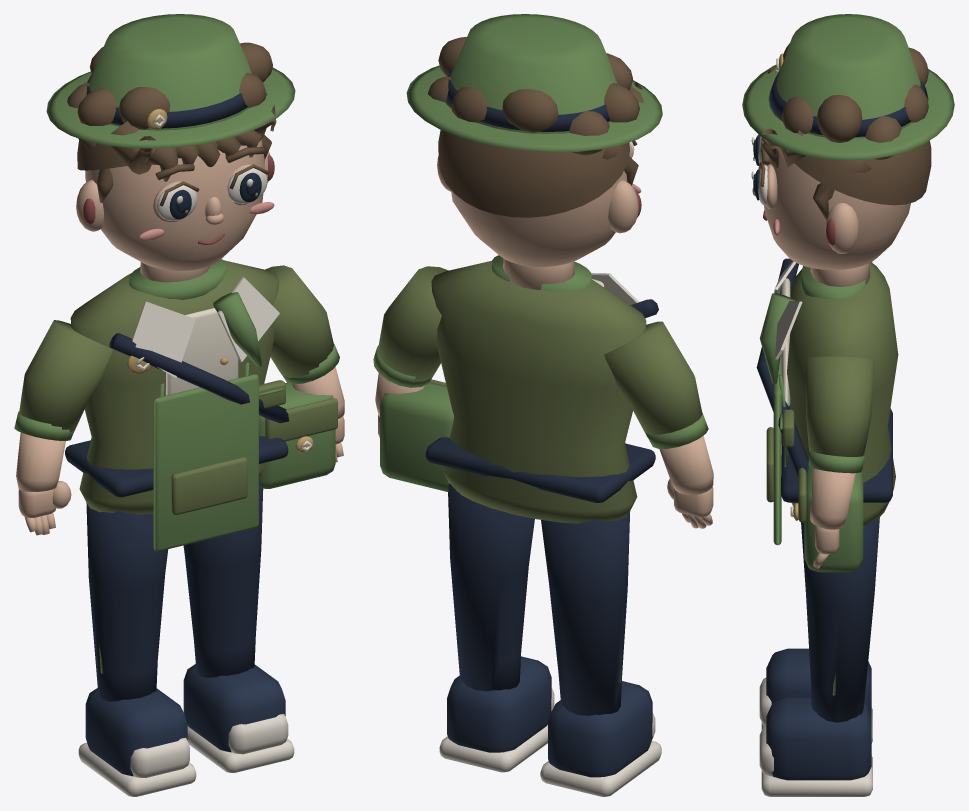
The model's file is npc_farmtown_trainer_1.glb.
3 views of the same model, side by side, from view 1: azimuth 30°, elevation 25°; view 2: azimuth 150°, elevation 25°; view 3: azimuth 270°, elevation 25° (orthographic). The views are drawn at different scales.
Parts seen in each view (by area): view 1: figure.034; view 2: figure.034; view 3: figure.034.
Part boxes in pixels (x1,y1,x2,y2): figure.034: (14, 14, 344, 796); figure.034: (373, 14, 713, 796); figure.034: (742, 14, 954, 796).
Size of the model in its own units: 0.7495 by 1.58 by 0.4221.
